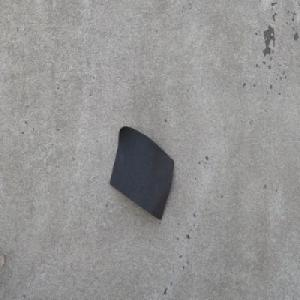PaintChip: (109, 125, 174, 220)
